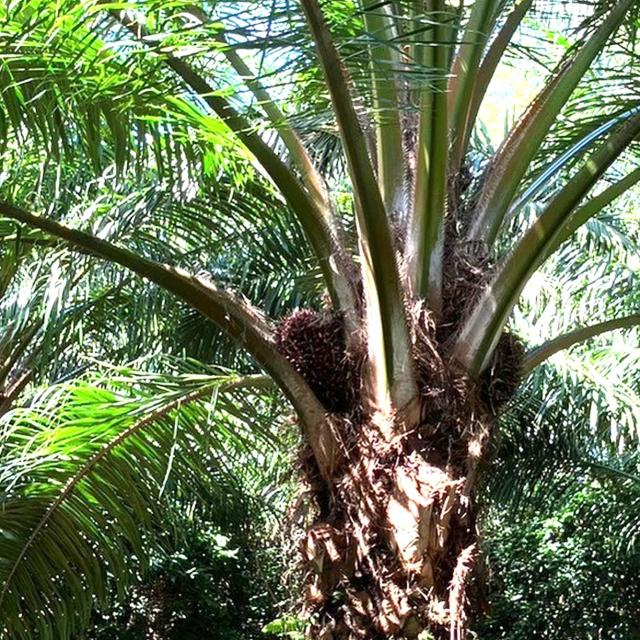ripe: (271, 308, 347, 410)
